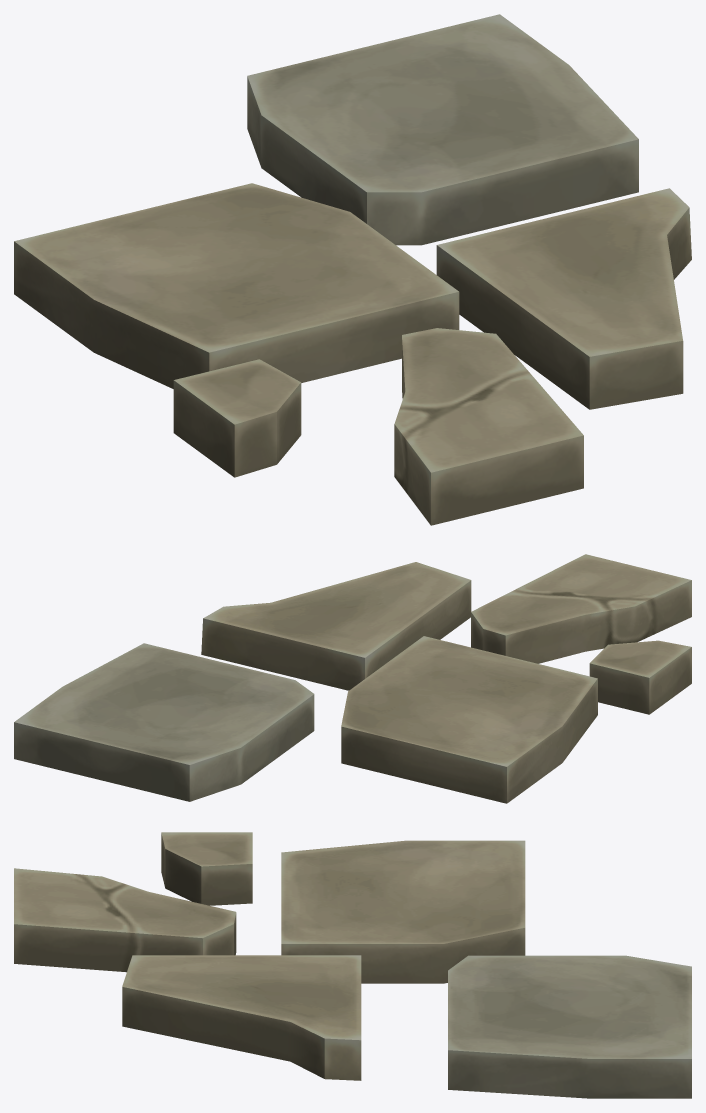
The model's file is Stairs_Debris3.fbx.
The picture shows the model from 3 angles, top to bottom: view 1: azimuth 30°, elevation 25°; view 2: azimuth 150°, elevation 25°; view 3: azimuth 270°, elevation 25°; orthographic projection. The views are drawn at different scales.
Parts seen in each view (by area): view 1: polySurface658; view 2: polySurface658; view 3: polySurface658.
Boxes of the visible parts, x1,y1,x2,y2 form: polySurface658: (14, 14, 691, 525); polySurface658: (14, 554, 691, 803); polySurface658: (14, 832, 691, 1098).
Size of the model in its own units: 88.4 by 7.22 by 112.
Materials: 1 (1 with a texture image).
